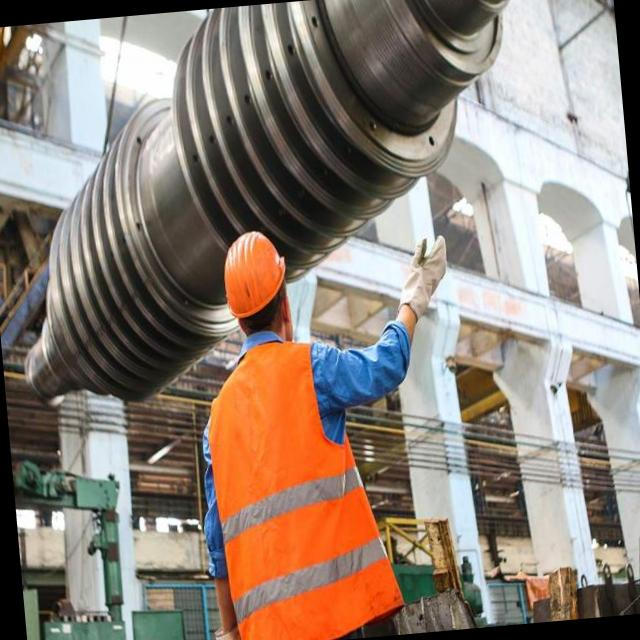Gloves: (387, 221, 461, 322)
Helmet: (217, 223, 291, 326)
Vest: (196, 318, 396, 640)
